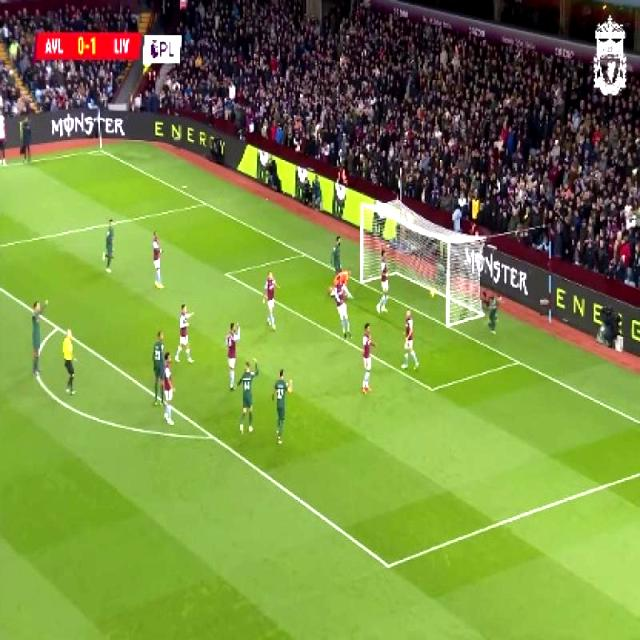bigarea_bottom_inner: (375, 548, 400, 582)
bigarea_top_outter: (198, 194, 212, 211)
bottom_arc_area_intersection: (202, 423, 222, 449)
corner: (89, 142, 109, 156)
smallarea_bottom_inner: (420, 372, 442, 403)
smallarea_bottom_outter: (509, 350, 526, 372)
smallarea_top_inner: (217, 262, 235, 284)
smallarea_top_outter: (296, 243, 312, 263)
top_arc_area_intersection: (50, 317, 64, 337)
